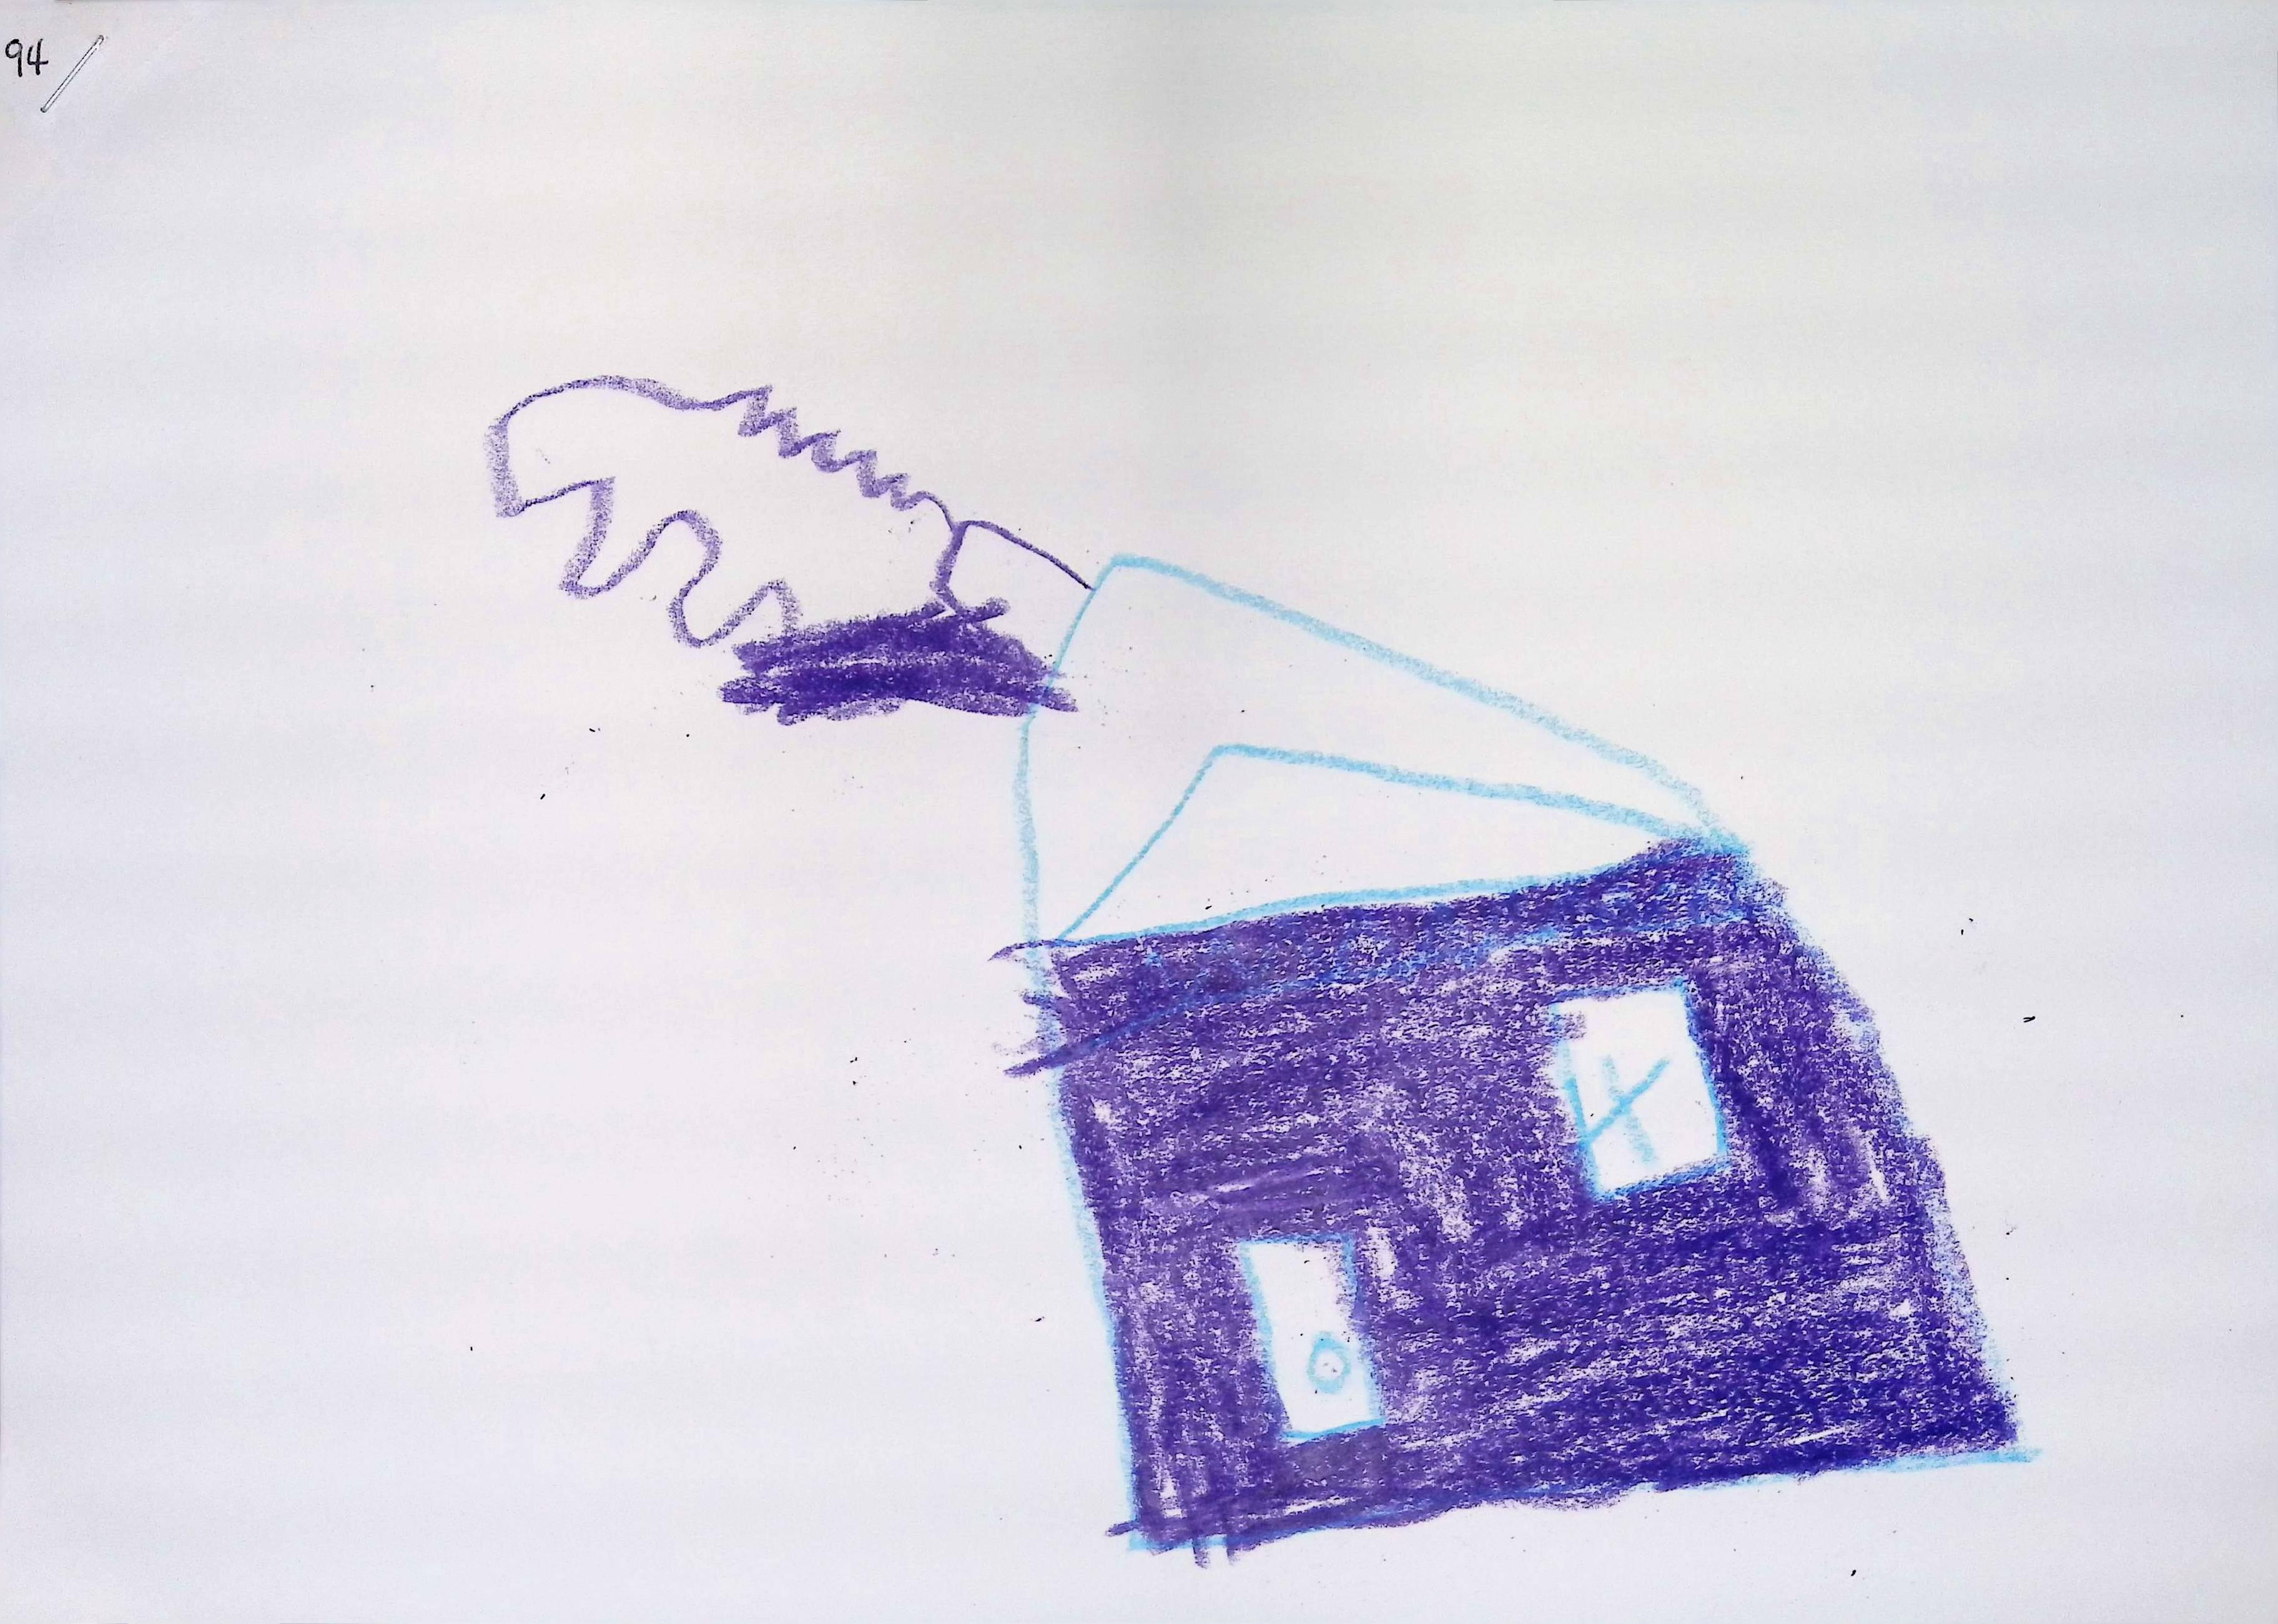chimney: (926, 518, 1088, 685)
door: (1241, 1237, 1383, 1441)
house: (935, 518, 2042, 1562)
roof: (1018, 554, 1724, 940)
wall: (1030, 833, 2041, 1561)
window: (1552, 984, 1728, 1197)
